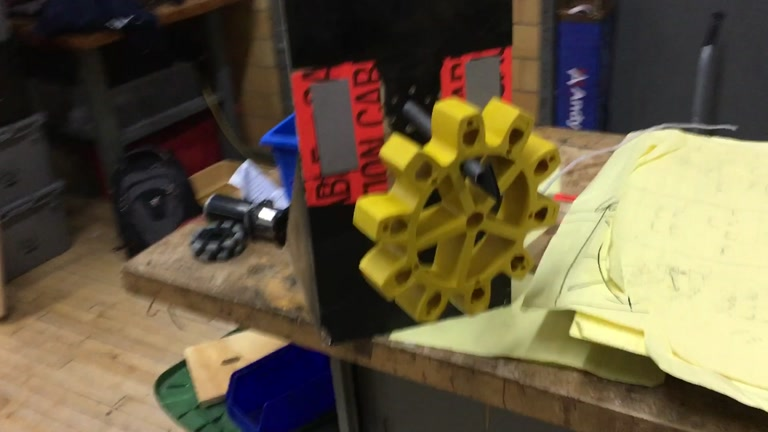gear: (352, 95, 561, 324)
